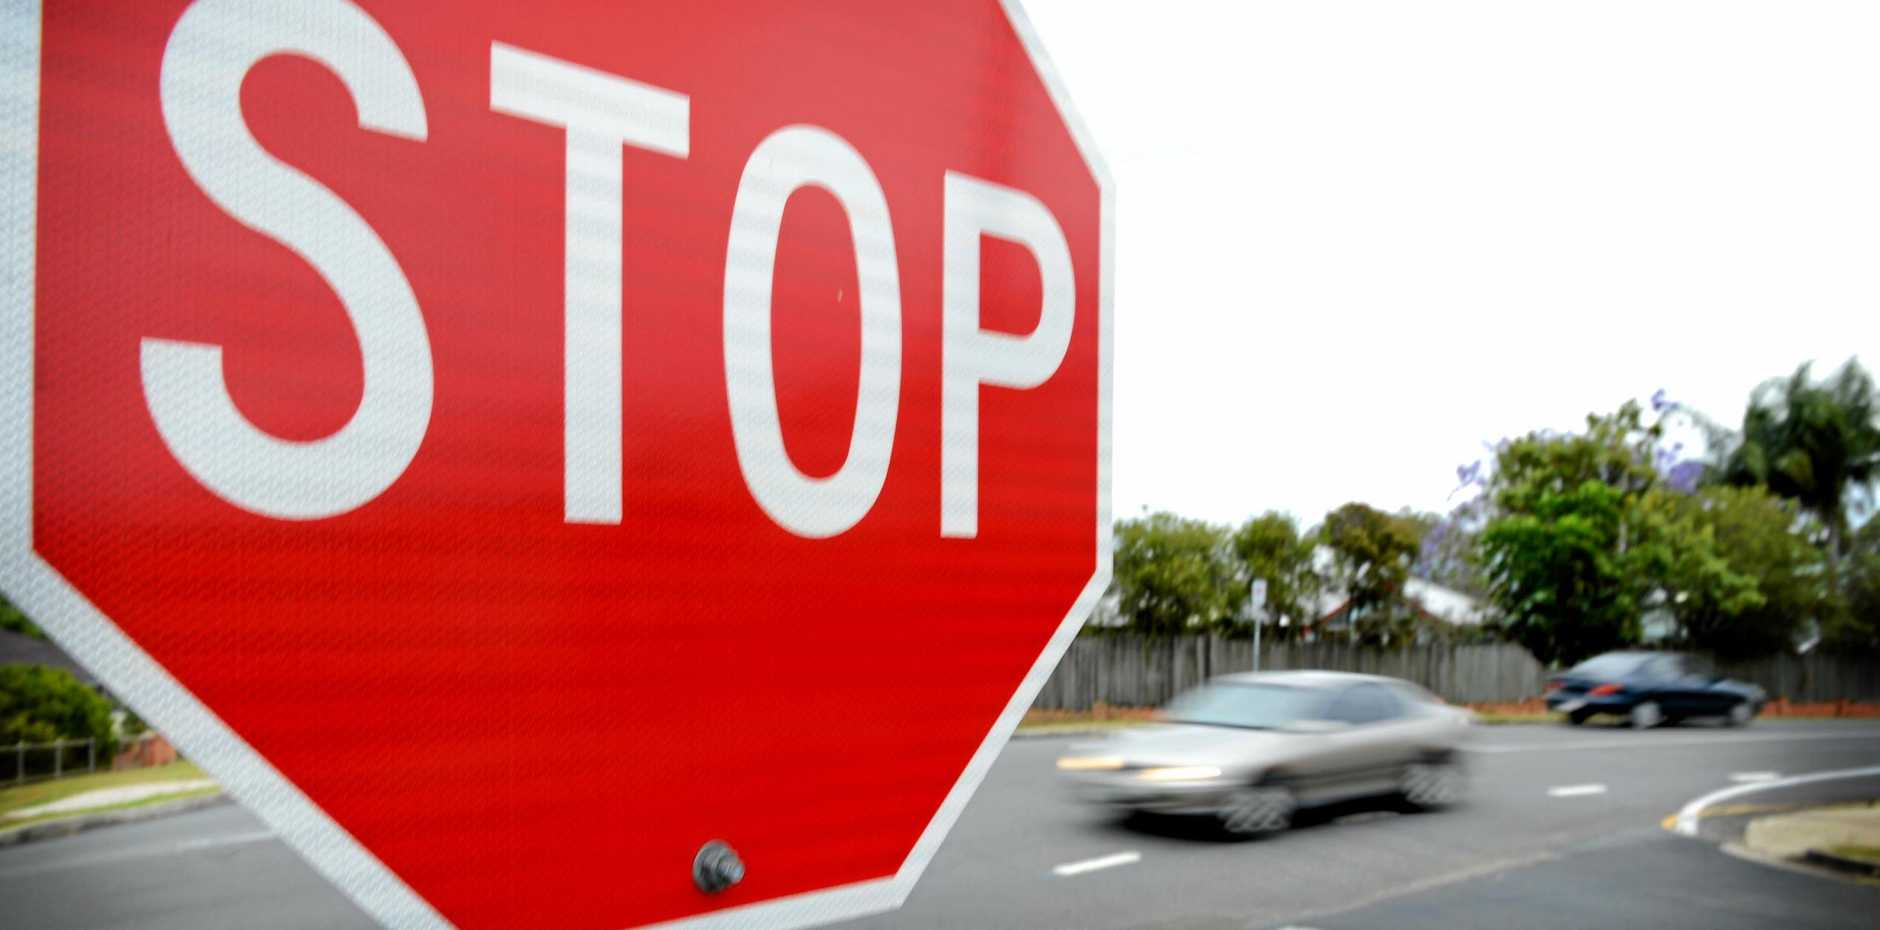stop: (1, 1, 1111, 929), (2, 1, 1024, 925), (415, 1, 1114, 929), (8, 1, 605, 929), (605, 4, 1113, 930)
